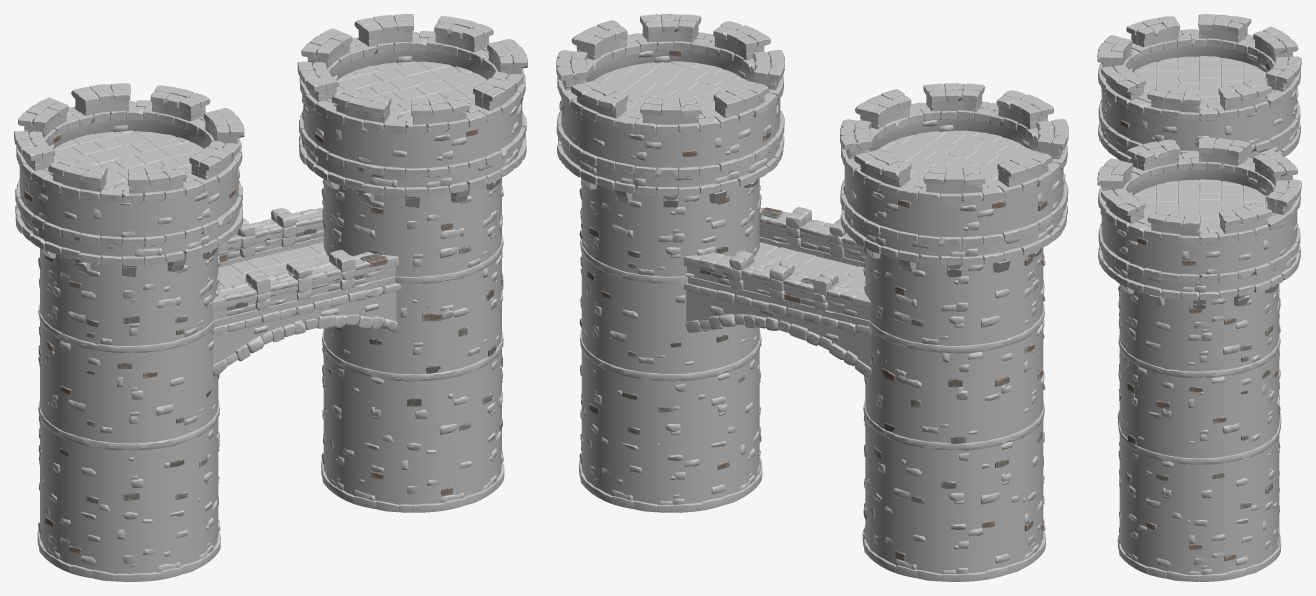
3 views of the same model, side by side, from view 1: azimuth 30°, elevation 25°; view 2: azimuth 150°, elevation 25°; view 3: azimuth 270°, elevation 25° (orthographic). The views are drawn at different scales.
Visible parts, largest first — view 1: SM_Castle_Entrance_01_v3_LOD0; view 2: SM_Castle_Entrance_01_v3_LOD0; view 3: SM_Castle_Entrance_01_v3_LOD0.
Boxes of the visible parts, x1,y1,x2,y2 form: SM_Castle_Entrance_01_v3_LOD0: (14,14,527,581); SM_Castle_Entrance_01_v3_LOD0: (556,14,1068,581); SM_Castle_Entrance_01_v3_LOD0: (1097,14,1301,581).
Bounding box in the file's own units: 22.8 × 18.66 × 9.4.
